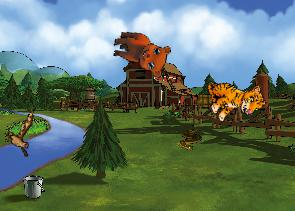bear: (108, 29, 172, 79)
eagle: (0, 108, 42, 160)
tiger: (201, 66, 268, 128)
